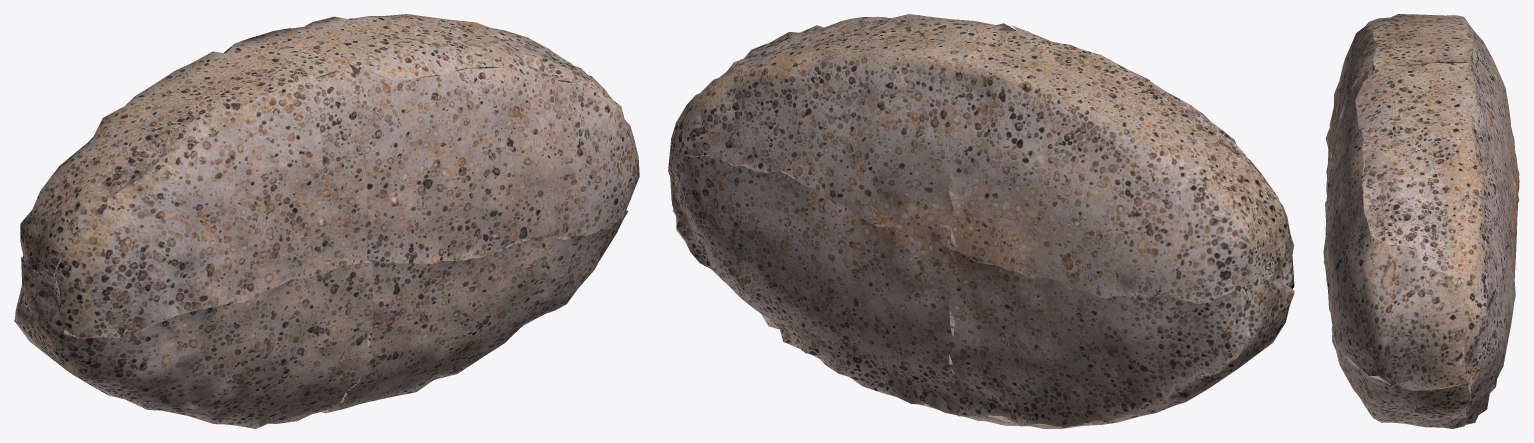
File: pumice.glb
3 views of the same model, side by side, from view 1: azimuth 30°, elevation 25°; view 2: azimuth 150°, elevation 25°; view 3: azimuth 270°, elevation 25° (orthographic). The views are drawn at different scales.
Visible parts, largest first — view 1: Object_2; view 2: Object_2; view 3: Object_2.
Boxes of the visible parts, x1,y1,x2,y2 form: Object_2: (14,14,639,428); Object_2: (668,14,1294,428); Object_2: (1323,14,1519,428).
Size of the model in its own units: 0.0873 by 0.0505 by 0.0282.
1 material, 1 textured.
